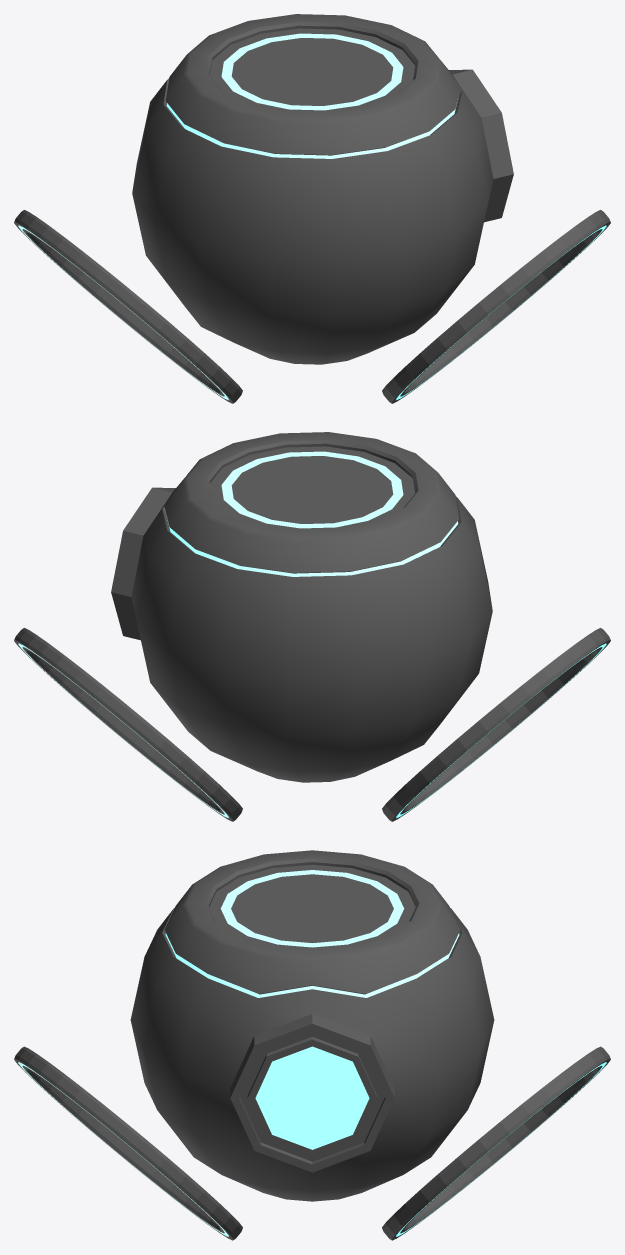
File: freezing_ball.fbx
3 renders of one model, top to bottom at view 1: azimuth 30°, elevation 25°; view 2: azimuth 150°, elevation 25°; view 3: azimuth 270°, elevation 25°, orthographic.
Visible parts, largest first — view 1: Sphere, Circle, Circle.001; view 2: Sphere, Circle, Circle.002; view 3: Sphere, Circle.001, Circle.002.
Boxes of the visible parts, x1,y1,x2,y2 form: Sphere: (132,14,513,364); Circle: (14,210,242,403); Circle.001: (382,210,610,403); Sphere: (111,432,492,782); Circle: (382,628,610,821); Circle.002: (14,628,242,821); Sphere: (130,850,494,1201); Circle.001: (14,1046,242,1240); Circle.002: (382,1046,610,1240).
Bounding box in the file's own units: 306 × 179 × 328.
